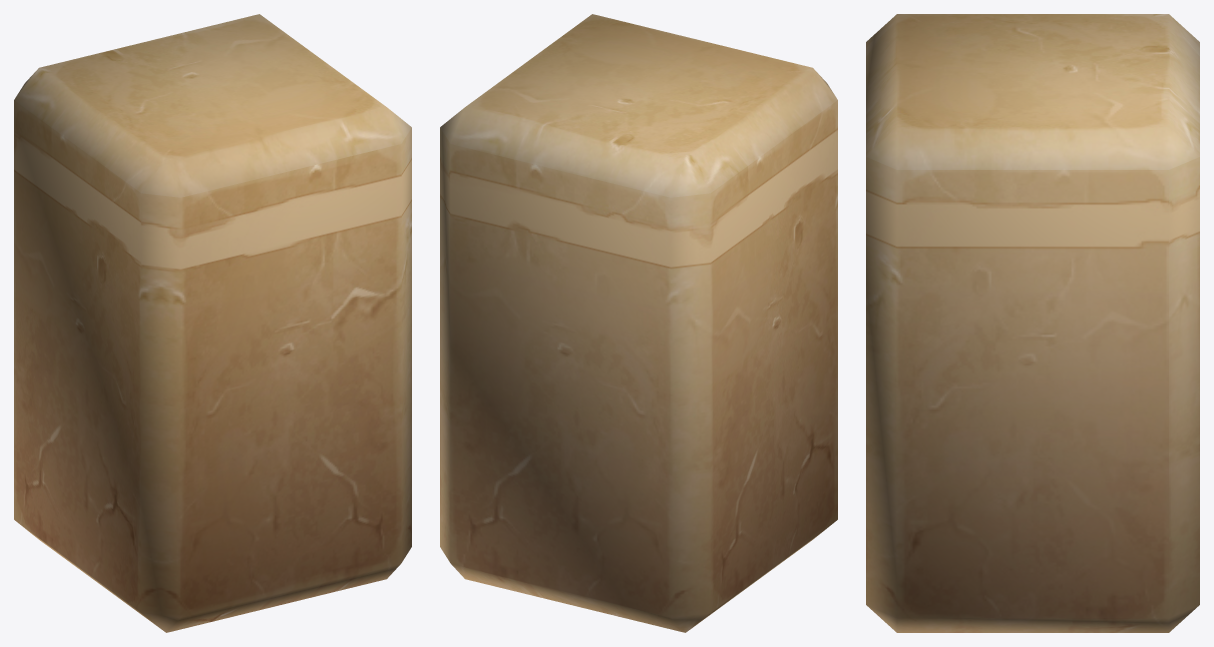
Rendered from DE_House_Mod_Part_44.fbx.
The picture shows the model from 3 angles, left to right: view 1: azimuth 30°, elevation 25°; view 2: azimuth 150°, elevation 25°; view 3: azimuth 270°, elevation 25°; orthographic projection. The views are drawn at different scales.
Visible parts, largest first — view 1: DE_House_Mod_Part_44; view 2: DE_House_Mod_Part_44; view 3: DE_House_Mod_Part_44.
Boxes of the visible parts, <box> form: DE_House_Mod_Part_44: <box>14,14,411,632</box>; DE_House_Mod_Part_44: <box>440,14,837,632</box>; DE_House_Mod_Part_44: <box>866,14,1199,632</box>.
Size of the model in its own units: 1.3 by 2.16 by 1.3.
